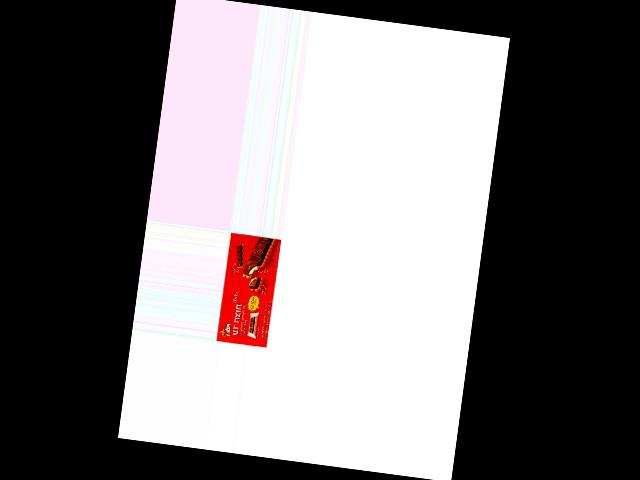chocolate: (215, 232, 281, 349)
